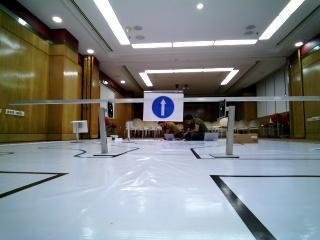straight: (142, 88, 186, 123)
